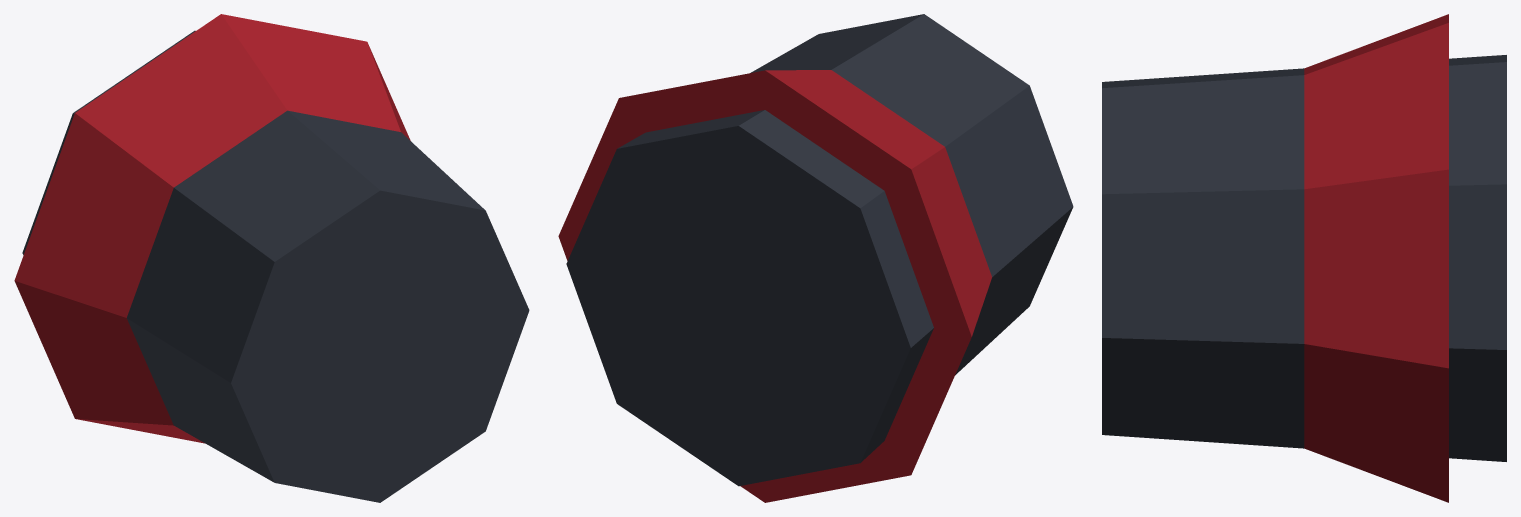
File: SM_BoulderProjectile.obj
3 views of the same model, side by side, from view 1: azimuth 30°, elevation 25°; view 2: azimuth 150°, elevation 25°; view 3: azimuth 270°, elevation 25° (orthographic). The views are drawn at different scales.
Visible parts, largest first — view 1: SM_BoulderProjectile_basalt, SM_BoulderProjectile_crimson; view 2: SM_BoulderProjectile_basalt, SM_BoulderProjectile_crimson; view 3: SM_BoulderProjectile_basalt, SM_BoulderProjectile_crimson.
Boxes of the visible parts, <box> form: SM_BoulderProjectile_basalt: <box>22,30,529,502</box>; SM_BoulderProjectile_crimson: <box>14,14,410,443</box>; SM_BoulderProjectile_basalt: <box>566,14,1073,486</box>; SM_BoulderProjectile_crimson: <box>558,70,991,502</box>; SM_BoulderProjectile_basalt: <box>1102,55,1506,461</box>; SM_BoulderProjectile_crimson: <box>1304,14,1448,502</box>.
Bounding box in the file's own units: 72 × 72 × 56.
